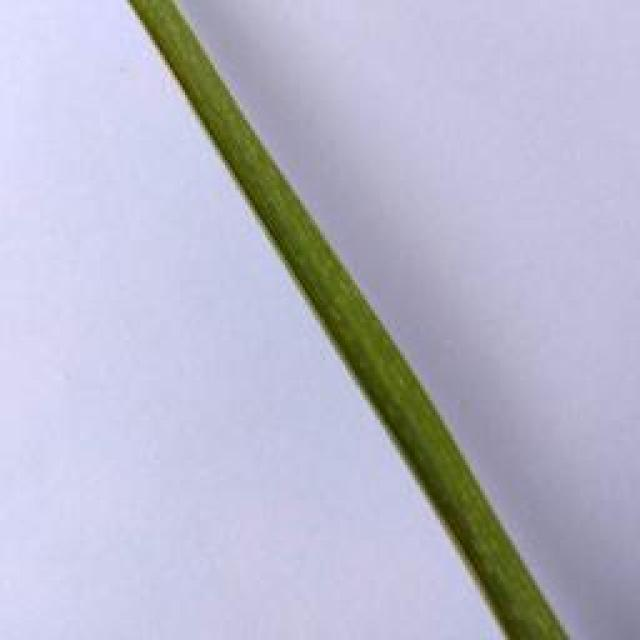Healthy-Plant: (119, 0, 565, 640)
